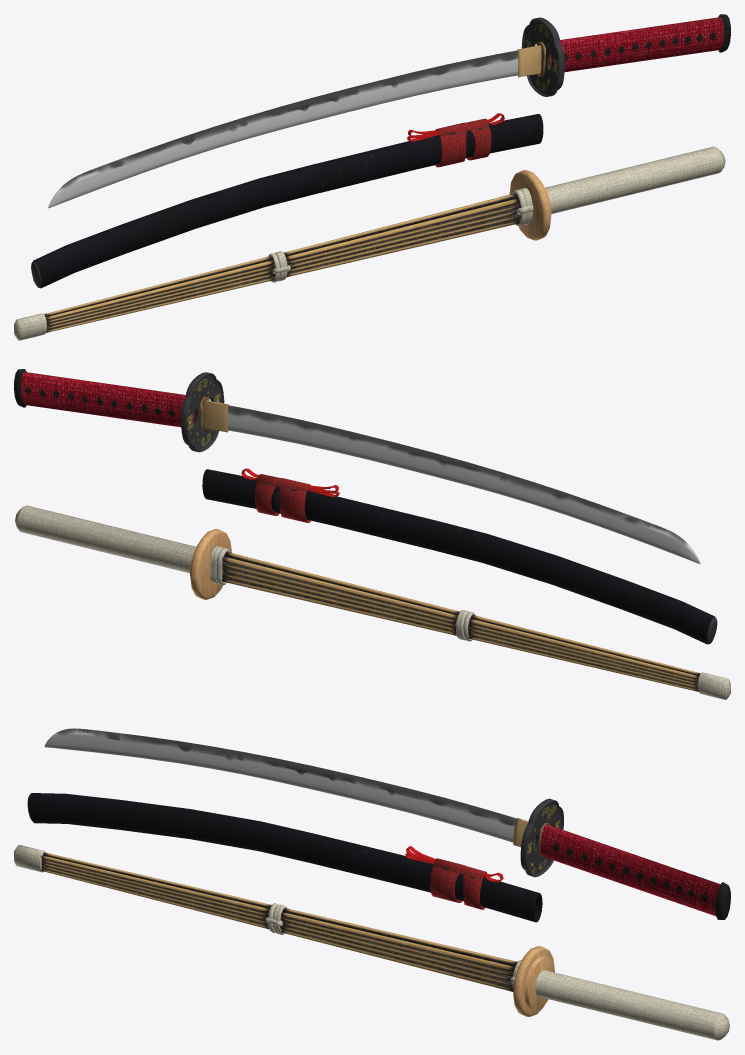
The model's file is katana.fbx.
The picture shows the model from 3 angles, top to bottom: view 1: azimuth 30°, elevation 25°; view 2: azimuth 150°, elevation 25°; view 3: azimuth 330°, elevation 25°; orthographic projection.
Parts seen in each view (by area): view 1: Cylinder.039, Cylinder.001, Cylinder.002; view 2: Cylinder.039, Cylinder.001, Cylinder.002; view 3: Cylinder.039, Cylinder.001, Cylinder.002.
Part boxes in pixels (bbox=[...]): Cylinder.039: bbox=[14, 146, 725, 340]; Cylinder.001: bbox=[48, 14, 730, 208]; Cylinder.002: bbox=[31, 113, 543, 288]; Cylinder.039: bbox=[15, 505, 730, 699]; Cylinder.001: bbox=[14, 369, 700, 563]; Cylinder.002: bbox=[202, 468, 717, 644]; Cylinder.039: bbox=[14, 845, 729, 1040]; Cylinder.001: bbox=[44, 728, 730, 919]; Cylinder.002: bbox=[27, 793, 542, 922].
Bounding box in the file's own units: 1.07 × 0.3103 × 0.1015.
